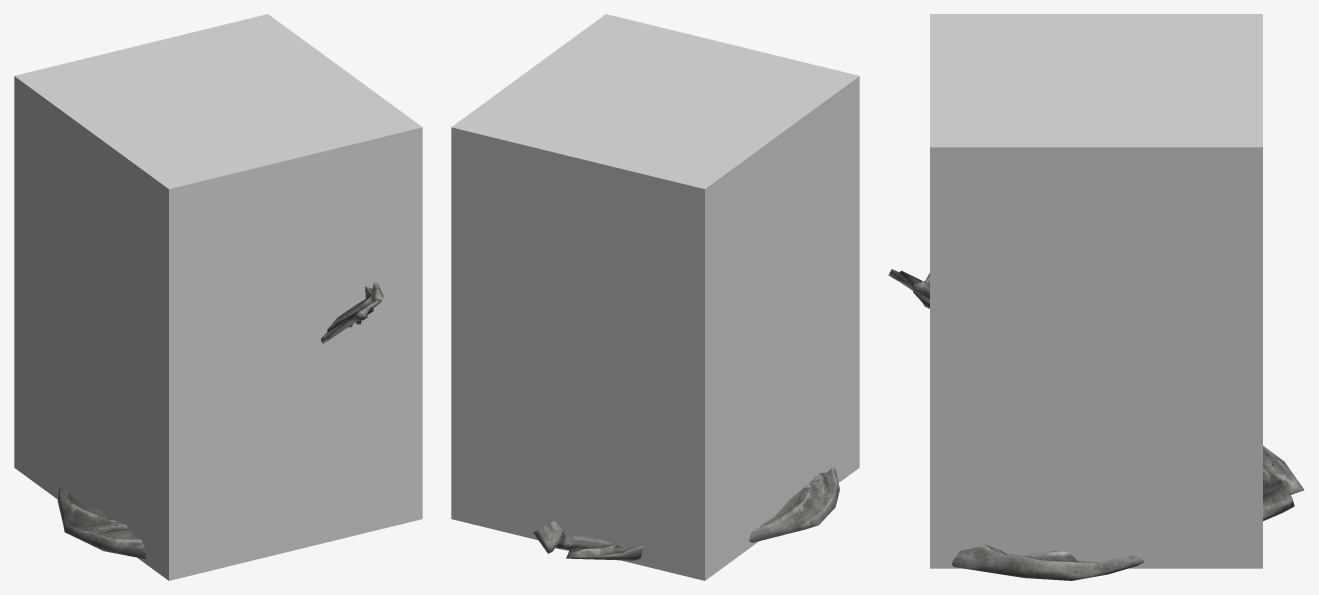
File: gothic_statue_sanctuary_lite.glb
3 views of the same model, side by side, from view 1: azimuth 30°, elevation 25°; view 2: azimuth 150°, elevation 25°; view 3: azimuth 270°, elevation 25° (orthographic). The views are drawn at different scales.
Parts seen in each view (by area): view 1: col_gothic_statue_sanctuary, gothic_statue_sanctuary; view 2: col_gothic_statue_sanctuary, gothic_statue_sanctuary; view 3: col_gothic_statue_sanctuary, gothic_statue_sanctuary.
Boxes of the visible parts, bbox=[...] form: col_gothic_statue_sanctuary: bbox=[14, 14, 422, 580]; gothic_statue_sanctuary: bbox=[57, 282, 383, 558]; col_gothic_statue_sanctuary: bbox=[451, 14, 859, 580]; gothic_statue_sanctuary: bbox=[533, 467, 839, 560]; col_gothic_statue_sanctuary: bbox=[930, 14, 1262, 568]; gothic_statue_sanctuary: bbox=[888, 269, 1304, 580].
Bounding box in the file's own units: 1.47 × 1.74 × 1.56.
1 material, 1 textured.
